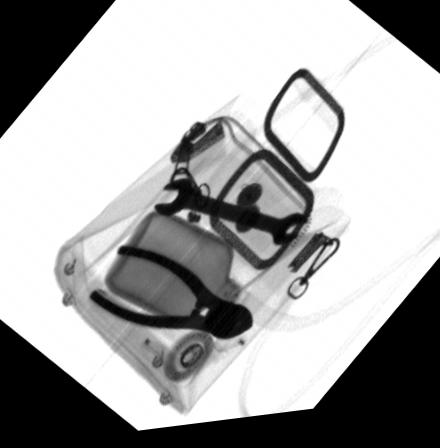Pliers: (85, 245, 254, 347)
Wrench: (153, 181, 308, 250)
